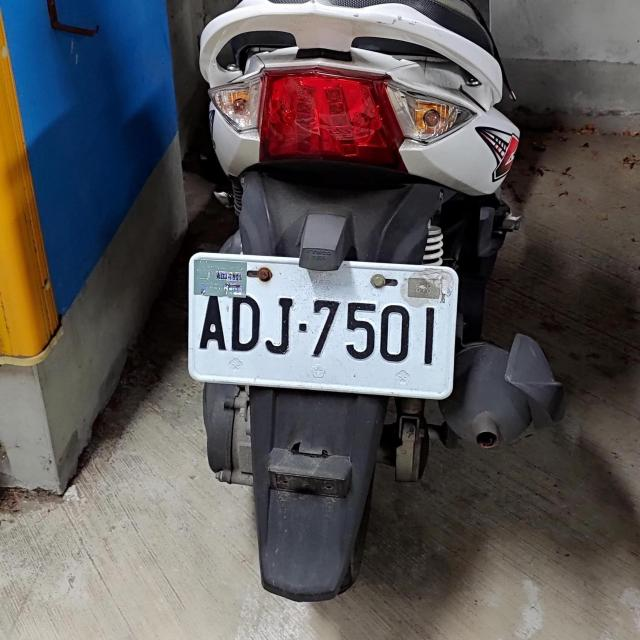W: (182, 252, 460, 396)
